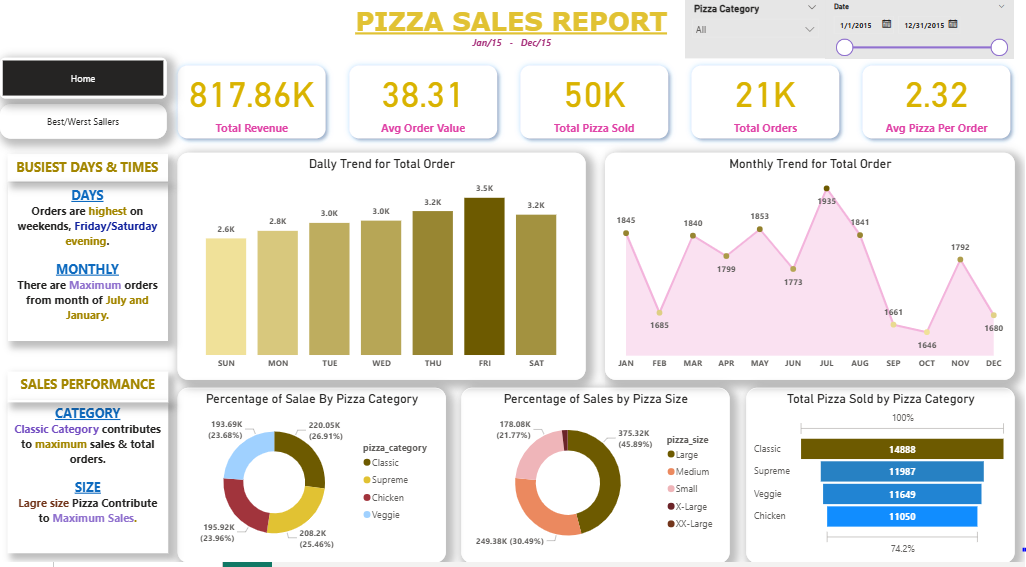

This screenshot's page, from the dashboard's own definition file:
{"tool":"powerbi","page":{"name":"Home","canvas":[1490,820],"ordinal":0},"visuals":[{"type":"slicer","fields":{"Values":["pizza_sales.order_date"]},"box":[1200,0,274.5,86],"z":0,"group":"g4"},{"type":"cardVisual","fields":{"Data":["pizza_sales.Total Revenue","pizza_sales.Avg Order Value","pizza_sales.Total Pizza Sold","pizza_sales.Total Orders","pizza_sales.Avg Pizza Per Order"]},"box":[242.2,80,1247.8,140],"z":0},{"type":"pageNavigator","box":[0,154.1,242.7,50.7],"z":0,"group":"g5"},{"type":"textbox","box":[10,225,232.5,40],"z":0,"group":"g1"},{"type":"textbox","box":[10,583.7,233.8,222.5],"z":0,"group":"g2"},{"type":"slicer","fields":{"Values":["pizza_sales.pizza_category"]},"box":[996,0,204,86],"z":1000,"group":"g4"},{"type":"textbox","box":[490,3,505,60.8],"z":1000,"group":"g3"},{"type":"pageNavigator","box":[0,86.1,242.7,59.3],"z":1000,"group":"g5"},{"type":"columnChart","title":"Dally Trend for Total Order","fields":{"Category":["pizza_sales.Order Day"],"Y":["pizza_sales.Total Orders"]},"box":[257.8,223.3,593.3,330],"z":1000},{"type":"textbox","box":[10,266.2,232.5,230],"z":1000,"group":"g1"},{"type":"textbox","box":[10,541.2,233.8,45],"z":1000,"group":"g2"},{"type":"textbox","box":[628.4,48.1,227,31.9],"z":2000,"group":"g3"},{"type":"areaChart","title":"Monthly Trend for Total Order","fields":{"Y":["pizza_sales.Total Orders"],"Category":["pizza_sales.Month Name"]},"box":[880,224.3,595.7,330],"z":2000},{"type":"donutChart","title":"Percentage of Sales by Pizza Size","fields":{"Y":["Sum(pizza_sales.total_price)"],"Category":["pizza_sales.pizza_size"]},"box":[671.2,565,390,255],"z":3000},{"type":"funnel","title":"Total Pizza Sold by Pizza Category","fields":{"Category":["pizza_sales.pizza_category"],"Y":["Sum(pizza_sales.quantity)"]},"box":[1085,565,390,255],"z":4000},{"type":"donutChart","title":"Percentage of Salae By Pizza Category","fields":{"Category":["pizza_sales.pizza_category"],"Y":["Sum(pizza_sales.total_price)"]},"box":[258,566,390,254],"z":5000},{"type":"group","id":"g1","title":"Group 1","box":[10,225,232.5,271.2],"z":6000},{"type":"group","id":"g2","title":"Group 2","box":[10,541.2,233.8,265],"z":7000},{"type":"group","id":"g3","title":"Group 3","box":[490,3,505,77],"z":8000},{"type":"group","id":"g4","title":"Group 4","box":[996,0,478.5,86],"z":9000},{"type":"group","id":"g5","title":"Group 5","box":[0,86.1,242.7,118.7],"z":10000}]}

Visuals, with their boxes in screenshot pixels (x1, y1, x2, y2), scaled from the page's 1490x820 canvas onto the 1026x567 screenshot:
slicer - pizza_sales.order_date: (826,0,1015,59)
cardVisual - pizza_sales.Total Revenue x pizza_sales.Avg Order Value: (167,55,1025,152)
pageNavigator: (0,107,167,142)
textbox: (7,156,167,183)
textbox: (7,404,168,557)
slicer - pizza_sales.pizza_category: (686,0,826,59)
textbox: (337,2,685,44)
pageNavigator: (0,60,167,101)
"Dally Trend for Total Order" columnChart: (178,154,586,383)
textbox: (7,184,167,343)
textbox: (7,374,168,405)
textbox: (433,33,589,55)
"Monthly Trend for Total Order" areaChart: (606,155,1016,383)
"Percentage of Sales by Pizza Size" donutChart: (462,391,731,566)
"Total Pizza Sold by Pizza Category" funnel: (747,391,1016,566)
"Percentage of Salae By Pizza Category" donutChart: (178,391,446,566)
"Group 1" group: (7,156,167,343)
"Group 2" group: (7,374,168,557)
"Group 3" group: (337,2,685,55)
"Group 4" group: (686,0,1015,59)
"Group 5" group: (0,60,167,142)
